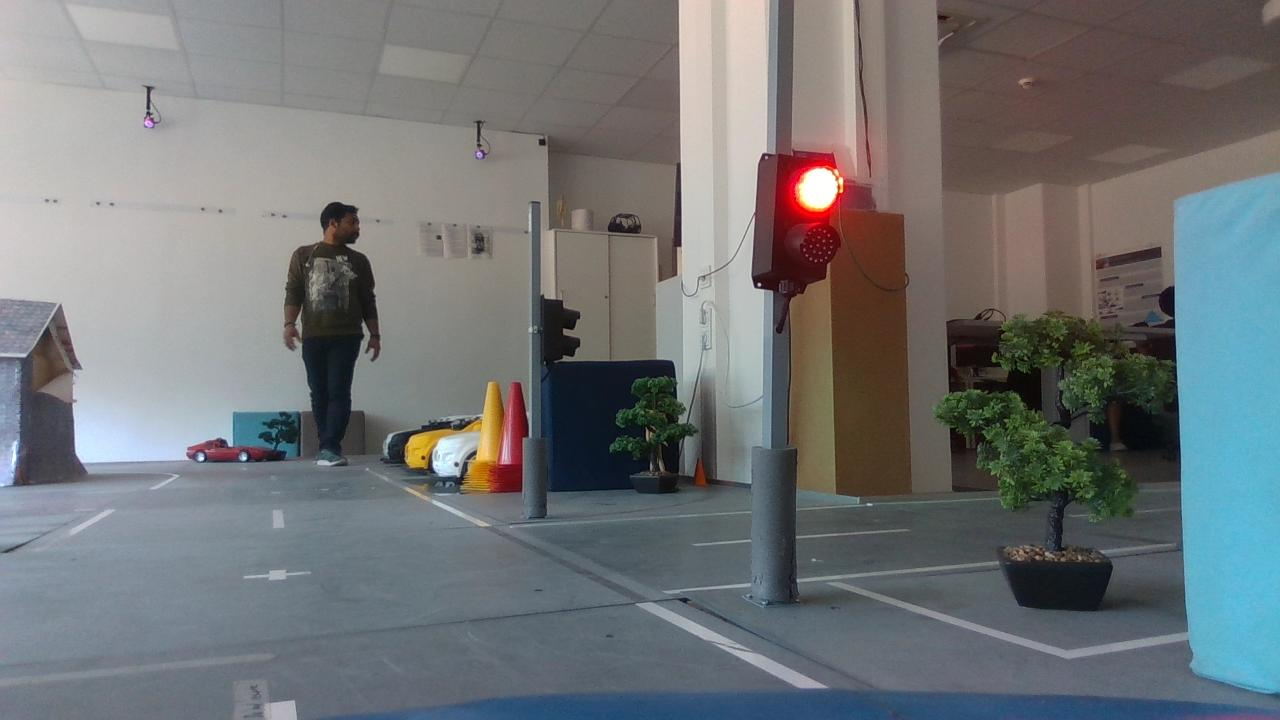traffic_light_red: (733, 138, 857, 307)
